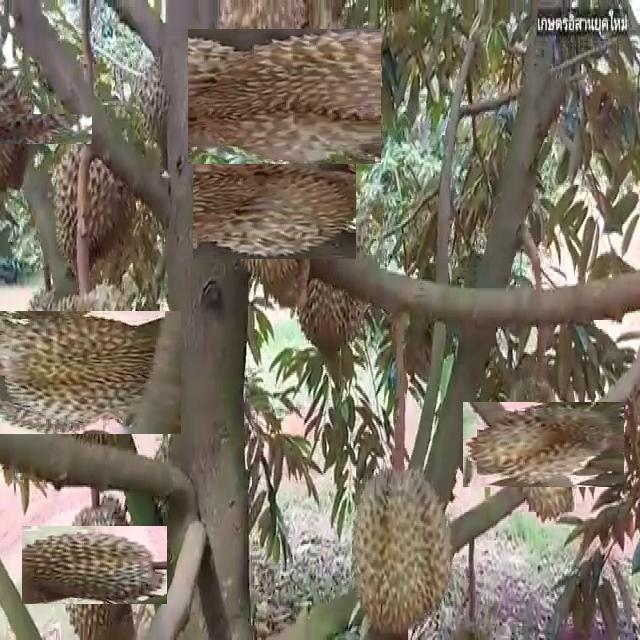durian: (202, 15, 367, 179), (1, 292, 162, 452), (348, 457, 456, 638), (207, 138, 342, 273), (45, 112, 144, 270), (482, 383, 605, 507), (292, 200, 380, 370), (38, 509, 150, 621), (0, 84, 62, 174)
